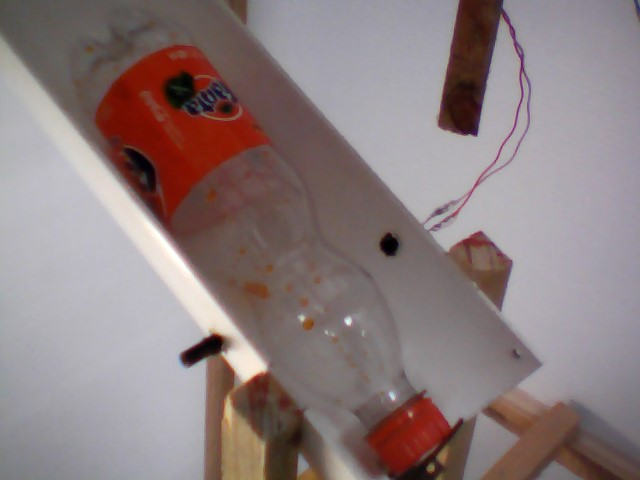plastico: (63, 3, 461, 478)
